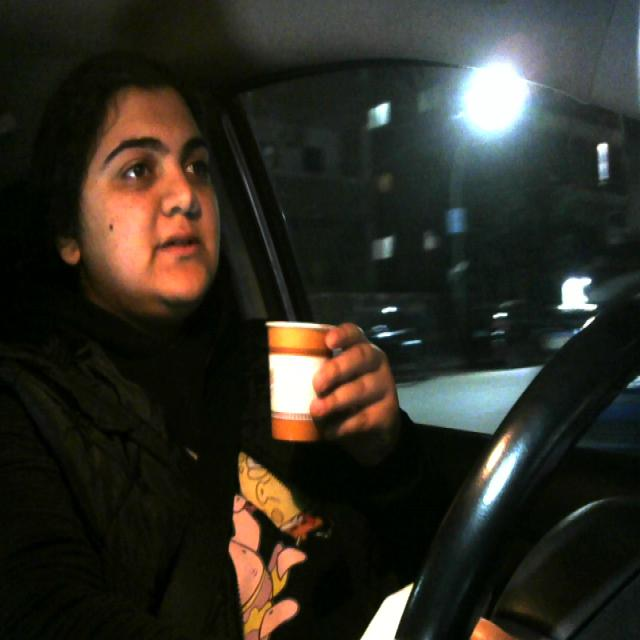drinking: (252, 310, 347, 456)
